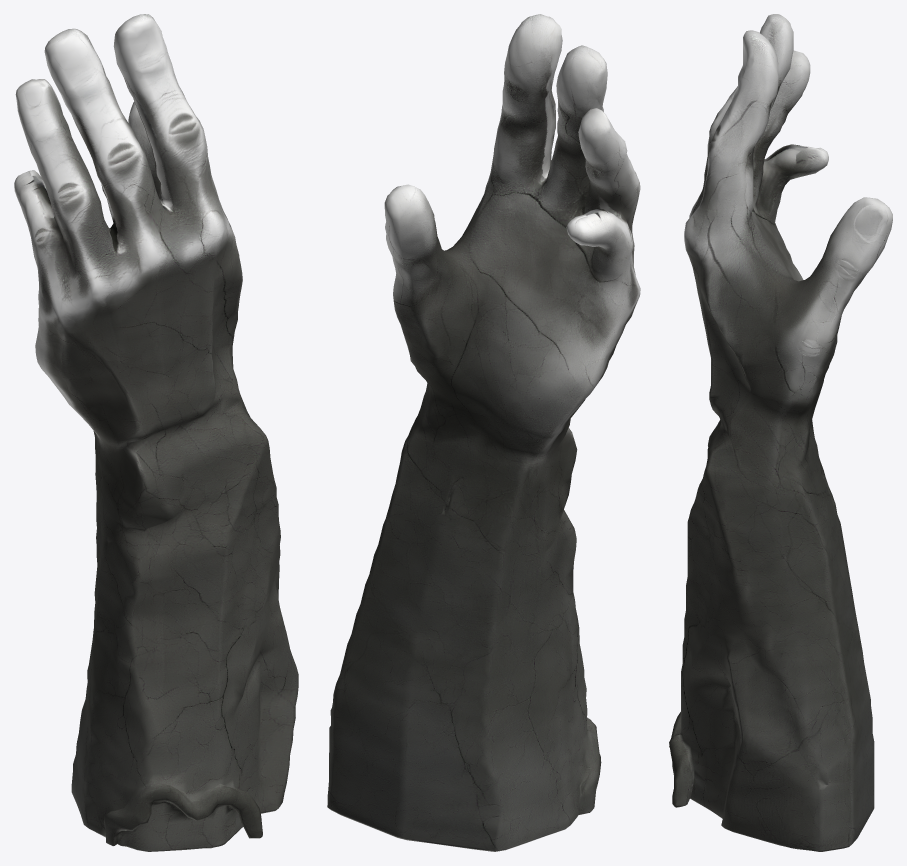
Rendered from sea_drowned_colossus_hand.glb.
3 renders of one model, left to right at view 1: azimuth 30°, elevation 25°; view 2: azimuth 150°, elevation 25°; view 3: azimuth 270°, elevation 25°, orthographic. The views are drawn at different scales.
Size of the model in its own units: 0.681 by 1.91 by 0.5205.
1 material, 1 textured.
